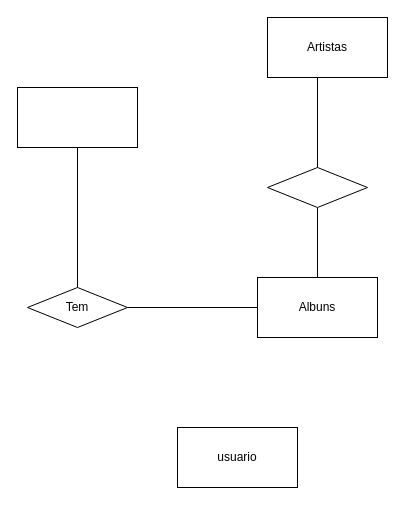
Image size: 405x505. Some labels were removed from this diagram. Here are the shapes that lost their labels. From the top down, the centre of each, then its label:
the point at 77,117: Estilos
the point at 317,187: Possui
